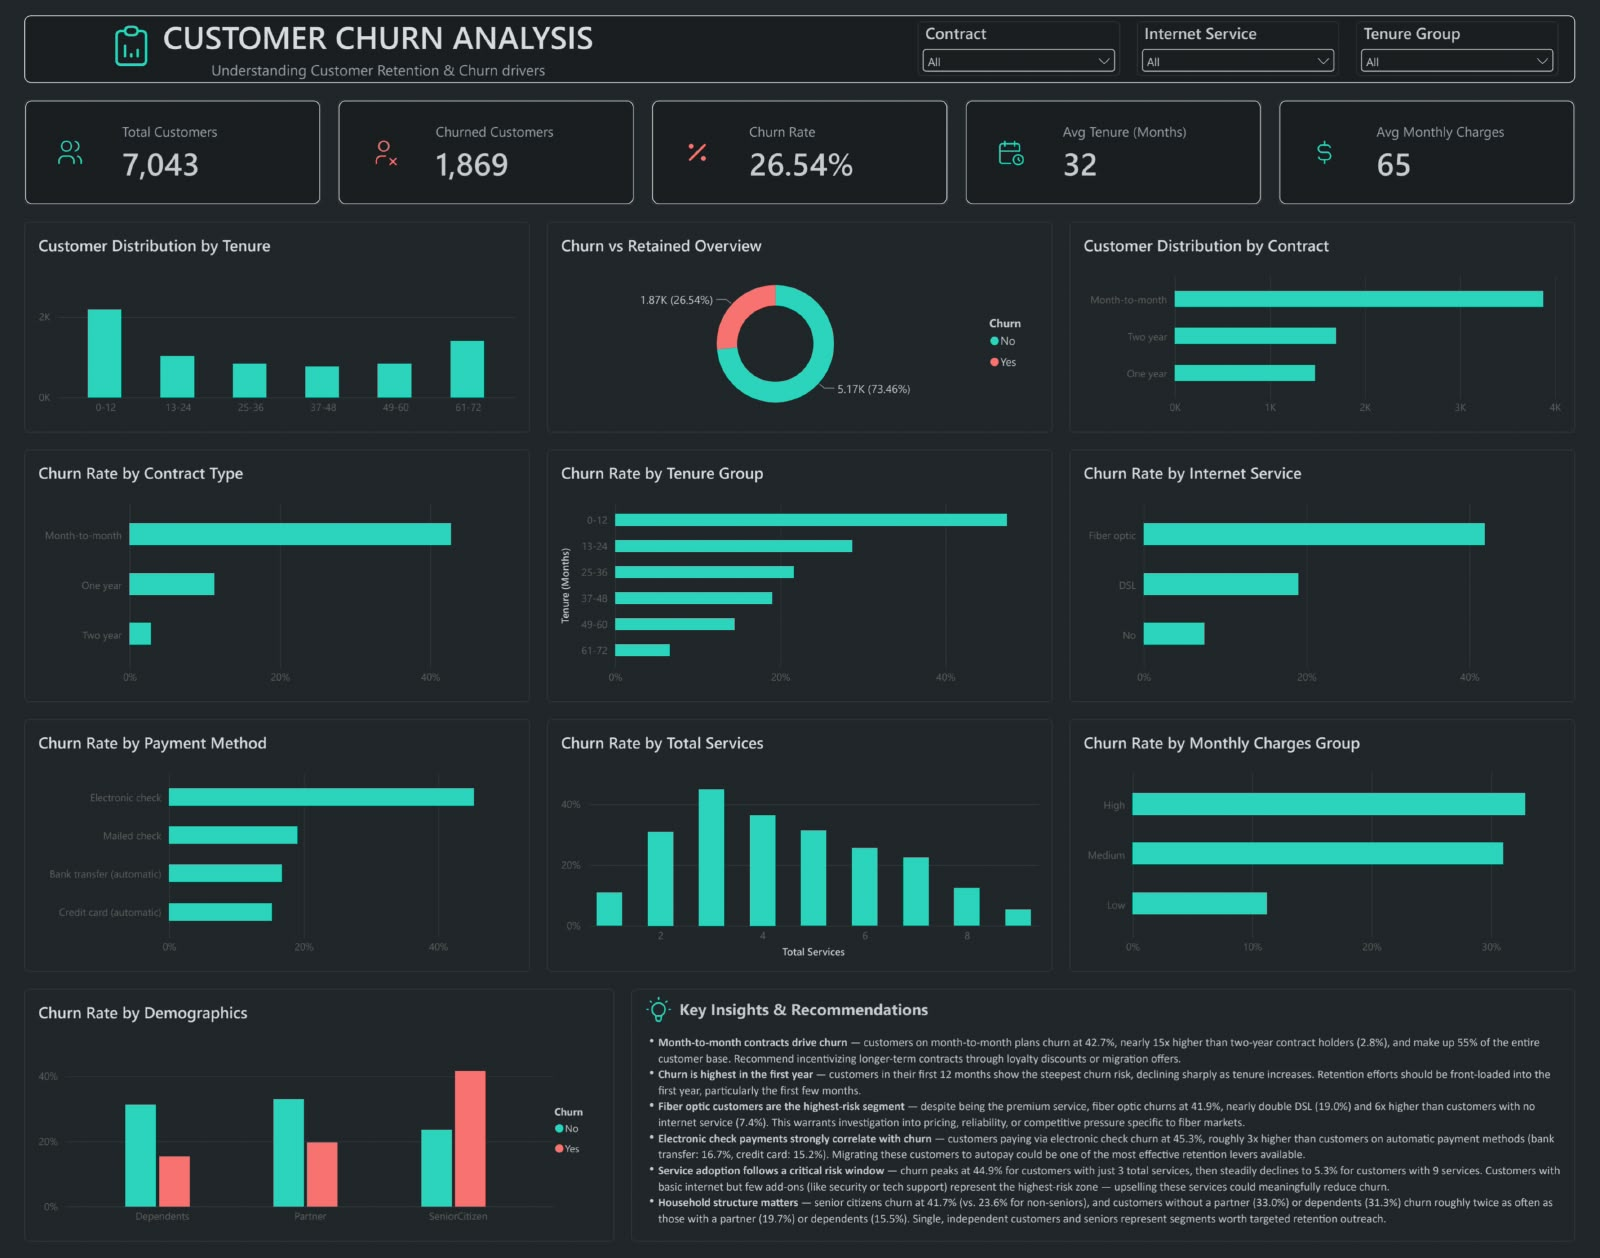

The dashboard page shown, as its layout file describes it:
{"tool":"powerbi","page":{"name":"Customer Churn Analysis","canvas":[1920,1500],"ordinal":0},"visuals":[{"type":"shape","box":[40,20,1840,80],"z":0},{"type":"cardVisual","fields":{"Data":["telco_customer_churn_cleaned.Total Customers"]},"box":[40,120,352,125],"z":1000},{"type":"cardVisual","fields":{"Data":["telco_customer_churn_cleaned.Churned Customers"]},"box":[412,120,352,125],"z":2000},{"type":"cardVisual","fields":{"Data":["telco_customer_churn_cleaned.Churned Rate"]},"box":[784,120,352,125],"z":3000},{"type":"cardVisual","fields":{"Data":["telco_customer_churn_cleaned.Avg Tenure (Months)"]},"box":[1156,120,352,125],"z":4000},{"type":"cardVisual","fields":{"Data":["telco_customer_churn_cleaned.Avg Monthly Charges"]},"box":[1528,120,352,125],"z":5000},{"type":"donutChart","title":"Churn vs Retained Overview","fields":{"Y":["CountNonNull(telco_customer_churn_cleaned.Churn)"],"Category":["telco_customer_churn_cleaned.Churn"]},"box":[660,265,600,250],"z":13000},{"type":"clusteredBarChart","title":"Customer Distribution by Contract","fields":{"Category":["telco_customer_churn_cleaned.Contract"],"Y":["telco_customer_churn_cleaned.Total Customers"]},"box":[1280,265,600,250],"z":14000},{"type":"clusteredColumnChart","title":"Customer Distribution by Tenure","fields":{"Y":["telco_customer_churn_cleaned.Total Customers"],"Category":["telco_customer_churn_cleaned.TenureBuckets"]},"box":[40,265,600,250],"z":15000},{"type":"clusteredBarChart","title":"Churn Rate by Contract Type","fields":{"Category":["telco_customer_churn_cleaned.Contract"],"Y":["telco_customer_churn_cleaned.Churned Rate"]},"box":[40,535,600,300],"z":15031},{"type":"clusteredBarChart","title":"Churn Rate by Tenure Group","fields":{"Category":["telco_customer_churn_cleaned.TenureBuckets"],"Y":["telco_customer_churn_cleaned.Churned Rate"]},"box":[660,535,600,300],"z":15062},{"type":"clusteredColumnChart","title":"Churn Rate by Total Services","fields":{"Category":["telco_customer_churn_cleaned.TotalServices"],"Y":["telco_customer_churn_cleaned.Churned Rate"]},"box":[660,855,600,300],"z":15125},{"type":"clusteredBarChart","title":"Churn Rate by Internet Service","fields":{"Category":["telco_customer_churn_cleaned.InternetService"],"Y":["telco_customer_churn_cleaned.Churned Rate"]},"box":[1280,535,600,300],"z":15156},{"type":"clusteredBarChart","title":"Churn Rate by Payment Method","fields":{"Category":["telco_customer_churn_cleaned.PaymentMethod"],"Y":["telco_customer_churn_cleaned.Churned Rate"]},"box":[40,855,600,300],"z":15187},{"type":"clusteredBarChart","title":"Churn Rate by Monthly Charges Group","fields":{"Category":["telco_customer_churn_cleaned.MonthlyChargesGroup"],"Y":["telco_customer_churn_cleaned.Churned Rate"]},"box":[1280,855,600,300],"z":15250},{"type":"clusteredColumnChart","title":"Churn Rate by Demographics","fields":{"Category":["DemographicsUnpivoted.Demographic"],"Y":["DemographicsUnpivoted.Churned Rate (Demographic)"],"Series":["DemographicsUnpivoted.DemographicValue"]},"box":[40,1175,700,300],"z":15500},{"type":"slicer","fields":{"Values":["telco_customer_churn_cleaned.Contract"]},"box":[1100,27,240,65],"z":16000},{"type":"slicer","fields":{"Values":["telco_customer_churn_cleaned.InternetService"]},"box":[1360,27,240,65],"z":17000},{"type":"slicer","fields":{"Values":["telco_customer_churn_cleaned.TenureBuckets"]},"box":[1620,27,240,65],"z":18000},{"type":"textbox","title":"CUSTOMER CHURN ANALYSIS","box":[100,20,700,80],"z":19000},{"type":"textbox","box":[760,1175,1120,300],"z":20000},{"type":"image","box":[137.1,25.7,60,60],"z":21000},{"type":"image","box":[774,1180,37,38],"z":22000}]}

Visuals, with their boxes in screenshot pixels (x1, y1, x2, y2), scaled from the page's 1920x1500 canvas onto the 1600x1258 screenshot:
shape: BBox(33, 17, 1567, 84)
cardVisual - telco_customer_churn_cleaned.Total Customers: BBox(33, 101, 327, 205)
cardVisual - telco_customer_churn_cleaned.Churned Customers: BBox(343, 101, 637, 205)
cardVisual - telco_customer_churn_cleaned.Churned Rate: BBox(653, 101, 947, 205)
cardVisual - telco_customer_churn_cleaned.Avg Tenure (Months): BBox(963, 101, 1257, 205)
cardVisual - telco_customer_churn_cleaned.Avg Monthly Charges: BBox(1273, 101, 1567, 205)
"Churn vs Retained Overview" donutChart: BBox(550, 222, 1050, 432)
"Customer Distribution by Contract" clusteredBarChart: BBox(1067, 222, 1567, 432)
"Customer Distribution by Tenure" clusteredColumnChart: BBox(33, 222, 533, 432)
"Churn Rate by Contract Type" clusteredBarChart: BBox(33, 449, 533, 700)
"Churn Rate by Tenure Group" clusteredBarChart: BBox(550, 449, 1050, 700)
"Churn Rate by Total Services" clusteredColumnChart: BBox(550, 717, 1050, 969)
"Churn Rate by Internet Service" clusteredBarChart: BBox(1067, 449, 1567, 700)
"Churn Rate by Payment Method" clusteredBarChart: BBox(33, 717, 533, 969)
"Churn Rate by Monthly Charges Group" clusteredBarChart: BBox(1067, 717, 1567, 969)
"Churn Rate by Demographics" clusteredColumnChart: BBox(33, 985, 617, 1237)
slicer - telco_customer_churn_cleaned.Contract: BBox(917, 23, 1117, 77)
slicer - telco_customer_churn_cleaned.InternetService: BBox(1133, 23, 1333, 77)
slicer - telco_customer_churn_cleaned.TenureBuckets: BBox(1350, 23, 1550, 77)
"CUSTOMER CHURN ANALYSIS" textbox: BBox(83, 17, 667, 84)
textbox: BBox(633, 985, 1567, 1237)
image: BBox(114, 22, 164, 72)
image: BBox(645, 990, 676, 1021)
